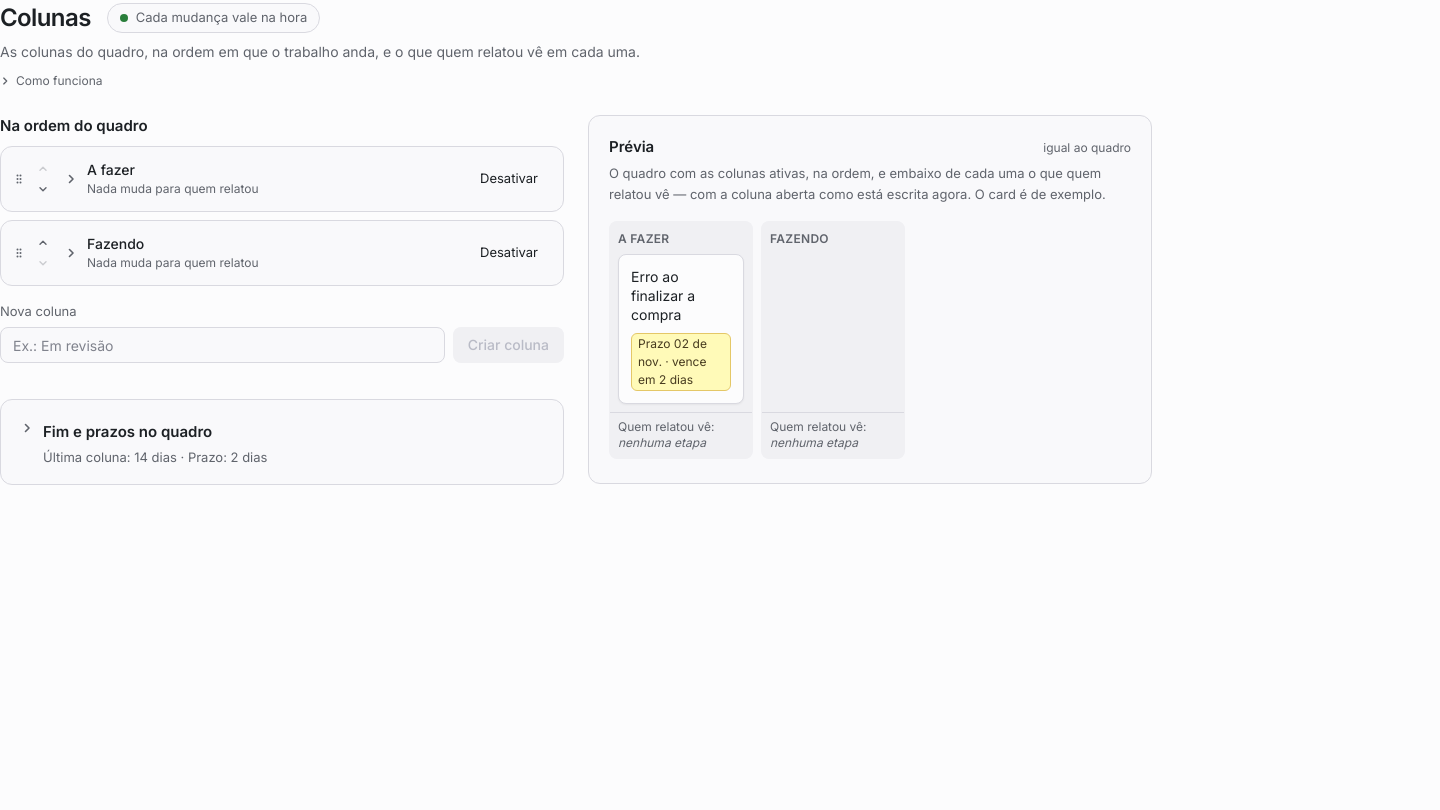
Test: ProjectStatesScreen › a pergunta de desativar diz quantos cards estão na coluna
The image size is (1440, 810).
Click the button with aria-label "Desativar A fazer".
click(509, 178)  # box [467,162,551,194]
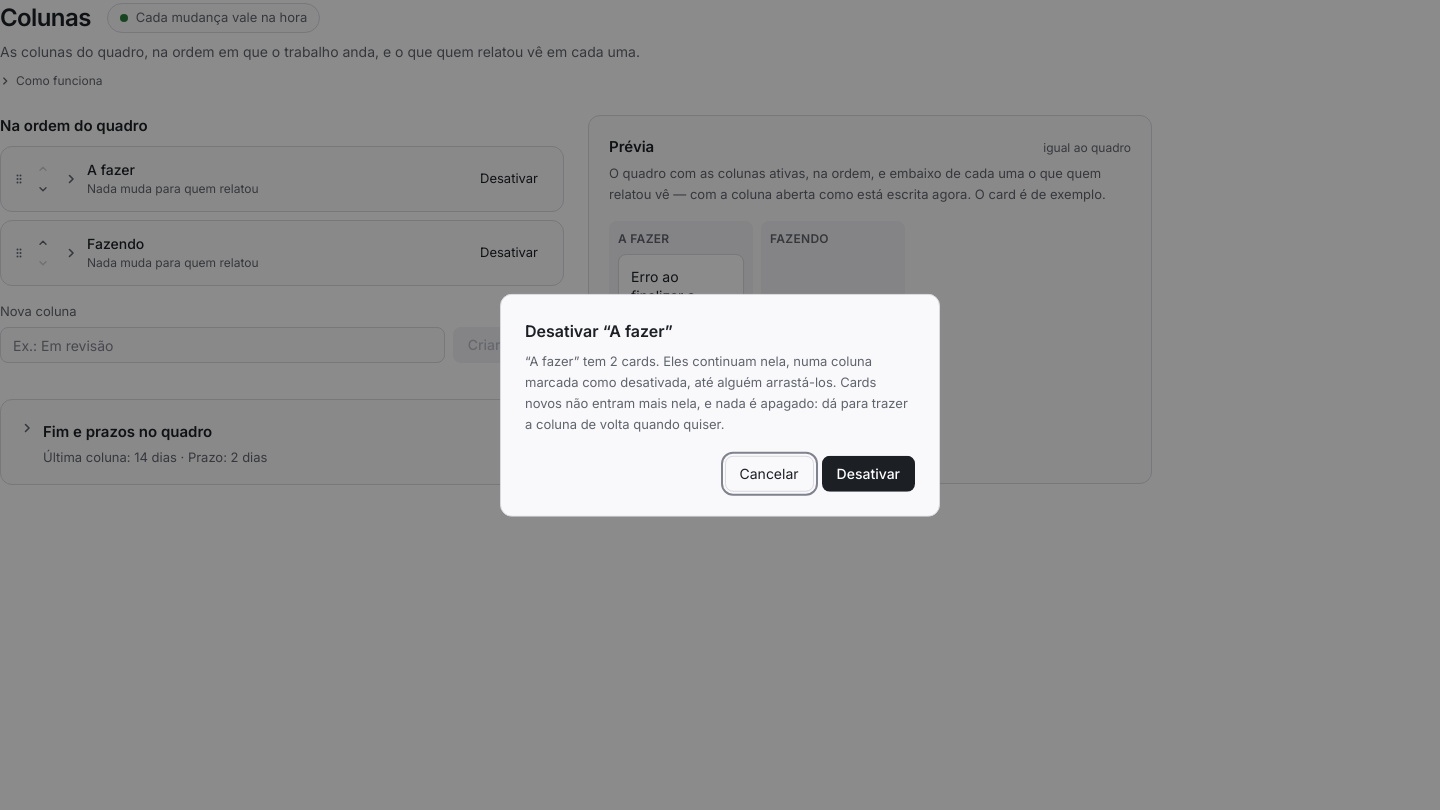
Result: the text "“A fazer” tem 2 cards. Eles continuam nela" is shown at [525,353,908,432]
